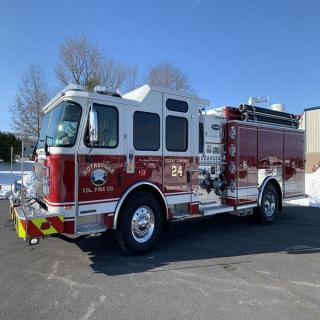Fire_truck: (9, 82, 309, 256)
